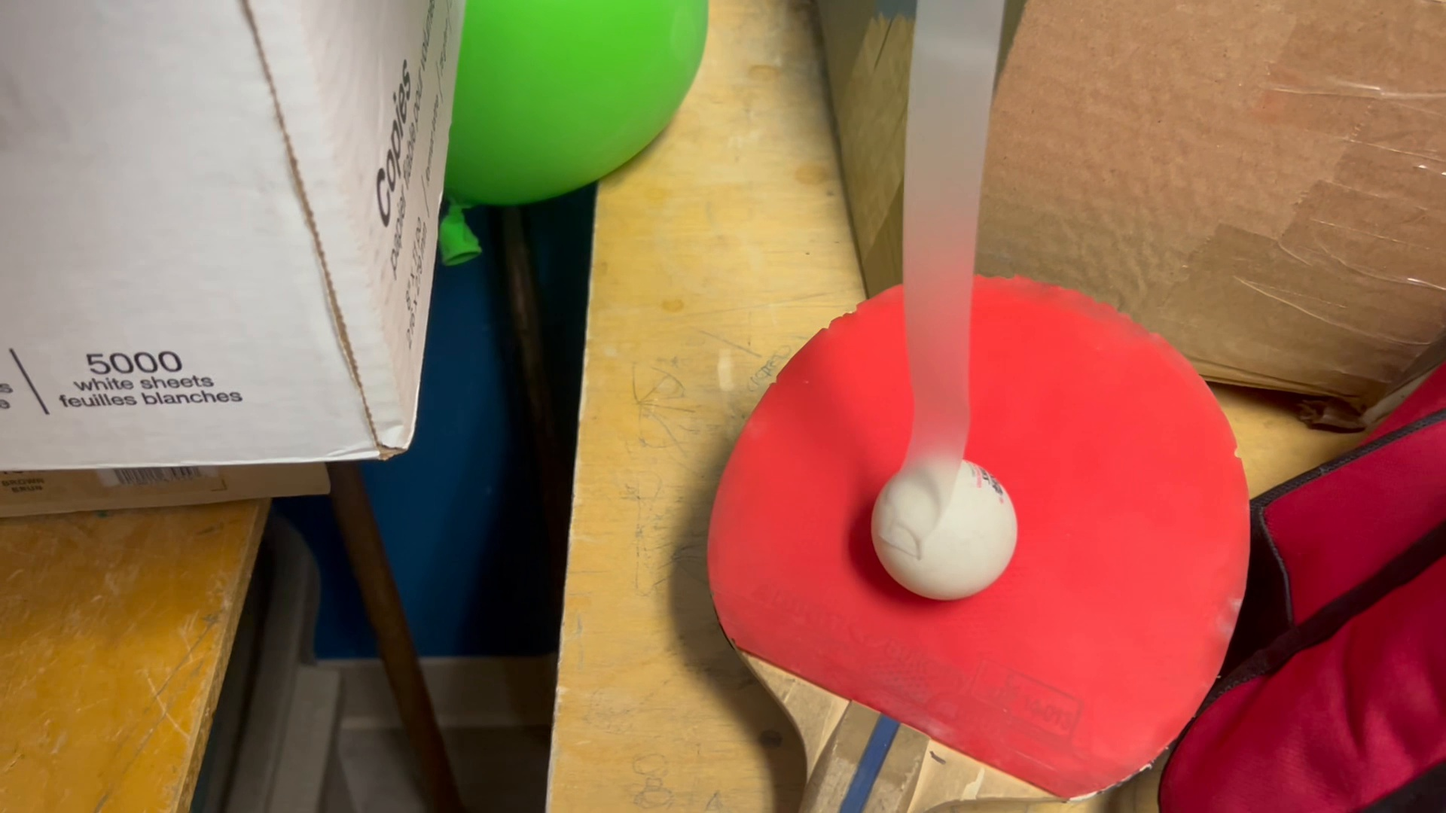Ball: (866, 465, 1020, 597)
